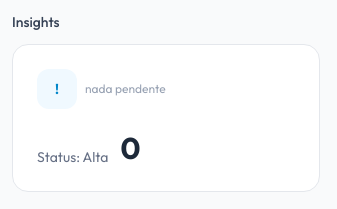
Test: InsightStrip › mantém o card clicável quando o contador é zero
Expected: the text "0" is shown, 120,129 -> 140,167
Click the button "! nada pendente Status: Alta 0".
click(57, 89)  # box 12,44 -> 320,192
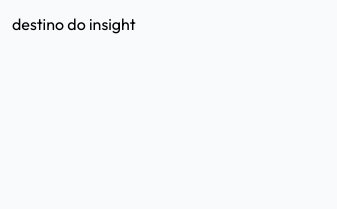
Now the text "destino do insight" is shown, box 12,14 -> 136,34
